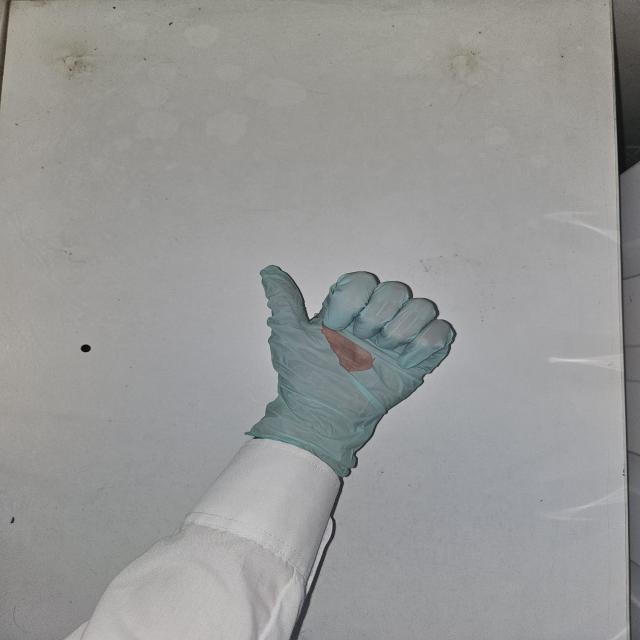gloves_damaged: (239, 262, 462, 480)
